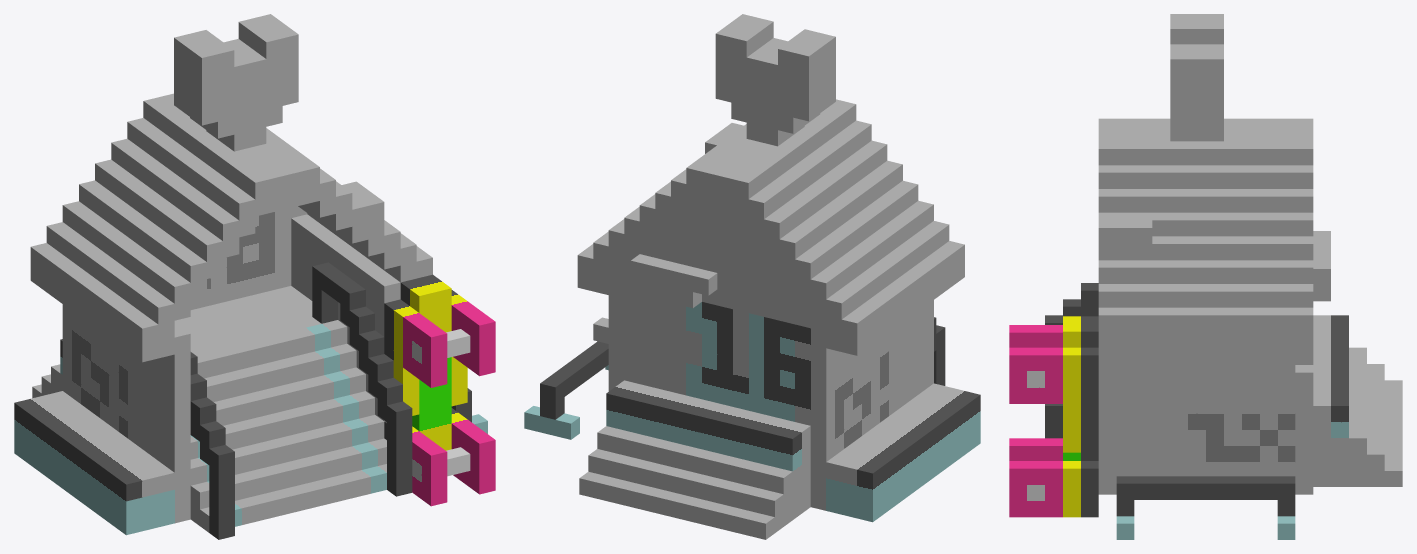
The model's file is HOME#16_GLB.glb.
The picture shows the model from 3 angles, left to right: view 1: azimuth 30°, elevation 25°; view 2: azimuth 150°, elevation 25°; view 3: azimuth 270°, elevation 25°; orthographic projection. The views are drawn at different scales.
Parts seen in each view (by area): view 1: Node-Local; view 2: Node-Local; view 3: Node-Local.
Boxes of the visible parts, x1,y1,x2,y2 form: Node-Local: [14, 14, 495, 539]; Node-Local: [524, 14, 980, 539]; Node-Local: [1009, 14, 1402, 539].
Size of the model in its own units: 23 by 25 by 22.
1 material, 1 textured.
